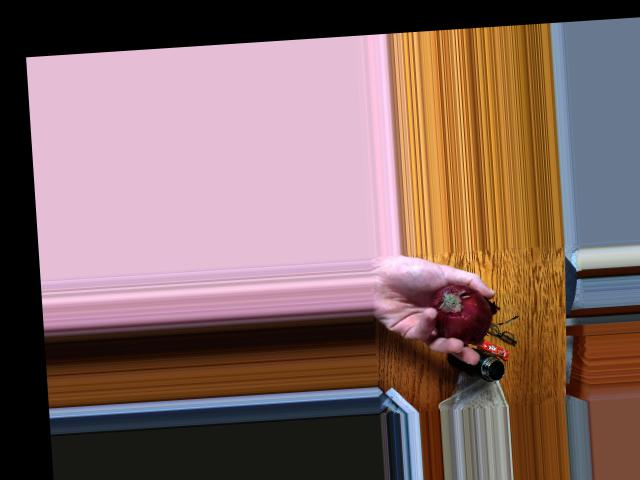onion: (430, 281, 486, 341)
